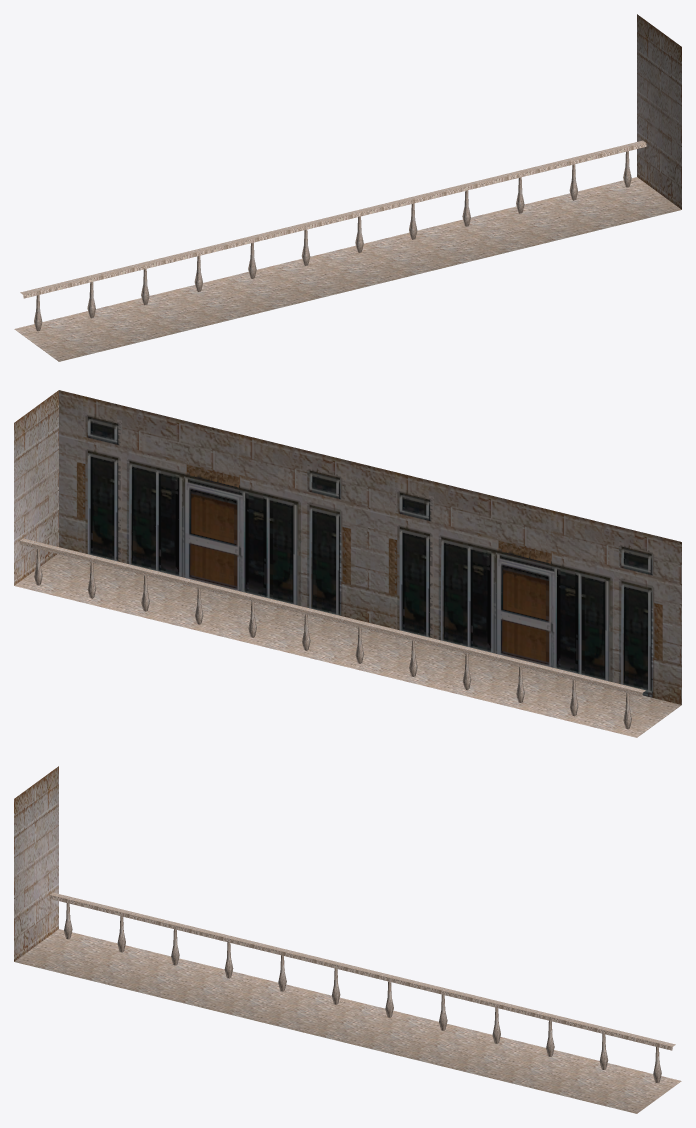
File: M2Zone4_Building15_F.glb
3 views of the same model, one above another, from view 1: azimuth 30°, elevation 25°; view 2: azimuth 150°, elevation 25°; view 3: azimuth 330°, elevation 25° (orthographic).
Visible parts, largest first — view 1: M2ZONE4_BUILDING15_F; view 2: M2ZONE4_BUILDING15_F; view 3: M2ZONE4_BUILDING15_F.
Part boxes in pixels (x1=…): M2ZONE4_BUILDING15_F: x1=14, y1=14, x2=681, y2=361; M2ZONE4_BUILDING15_F: x1=14, y1=390, x2=681, y2=737; M2ZONE4_BUILDING15_F: x1=14, y1=766, x2=681, y2=1113.
Bounding box in the file's own units: 16 × 4 × 2.
3 materials, 3 textured.
